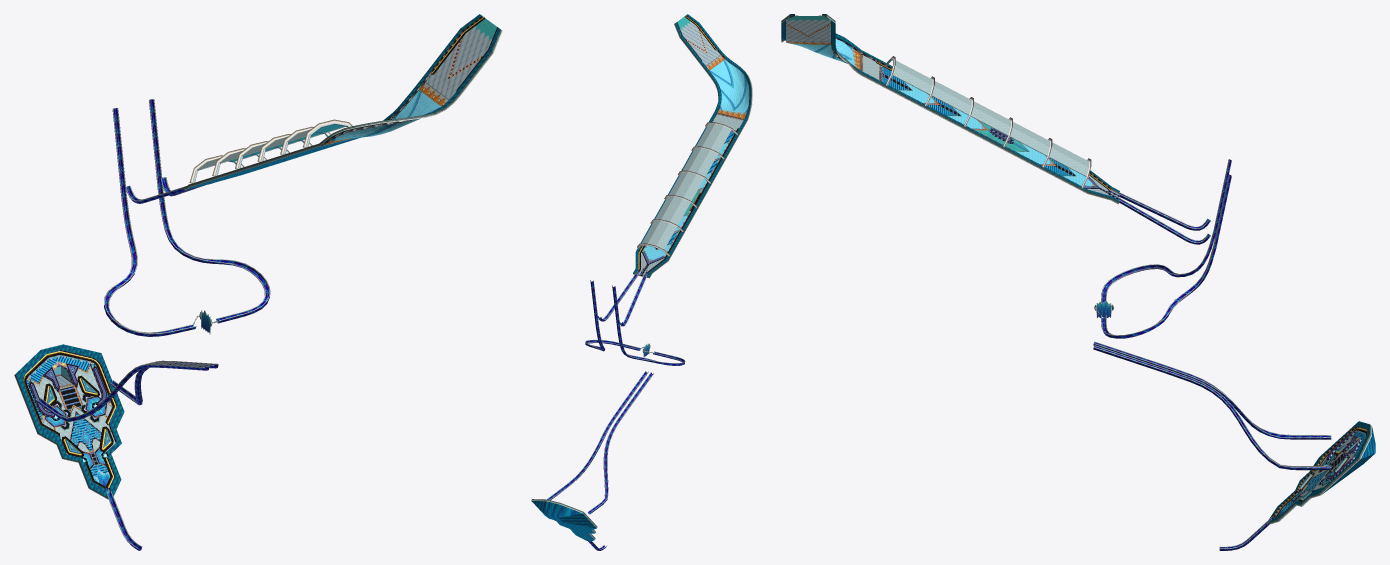
The model's file is 2P_Bingo_highway4.obj.
3 renders of one model, left to right at view 1: azimuth 30°, elevation 25°; view 2: azimuth 150°, elevation 25°; view 3: azimuth 270°, elevation 25°, orthographic. The views are drawn at different scales.
Parts seen in each view (by area): view 1: obj2, Object_2, obj1; view 2: obj2, obj1, Object_2; view 3: obj2, obj1, Object_2.
Part boxes in pixels (box(x1,y1,x2,y2)): obj2: box(14, 14, 502, 548); Object_2: box(23, 17, 497, 491); obj1: box(36, 99, 269, 550); obj2: box(531, 14, 752, 549); obj1: box(547, 274, 684, 550); Object_2: box(637, 15, 738, 272); obj2: box(781, 14, 1375, 549); obj1: box(1093, 159, 1331, 550); Object_2: box(795, 15, 1366, 516).
Bounding box in the file's own units: 851 × 2853 × 2631.
